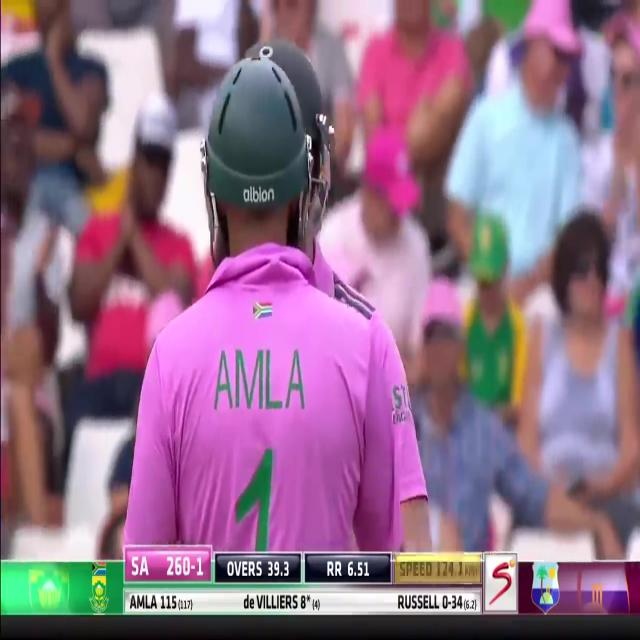Ball: (127, 50, 429, 554)
